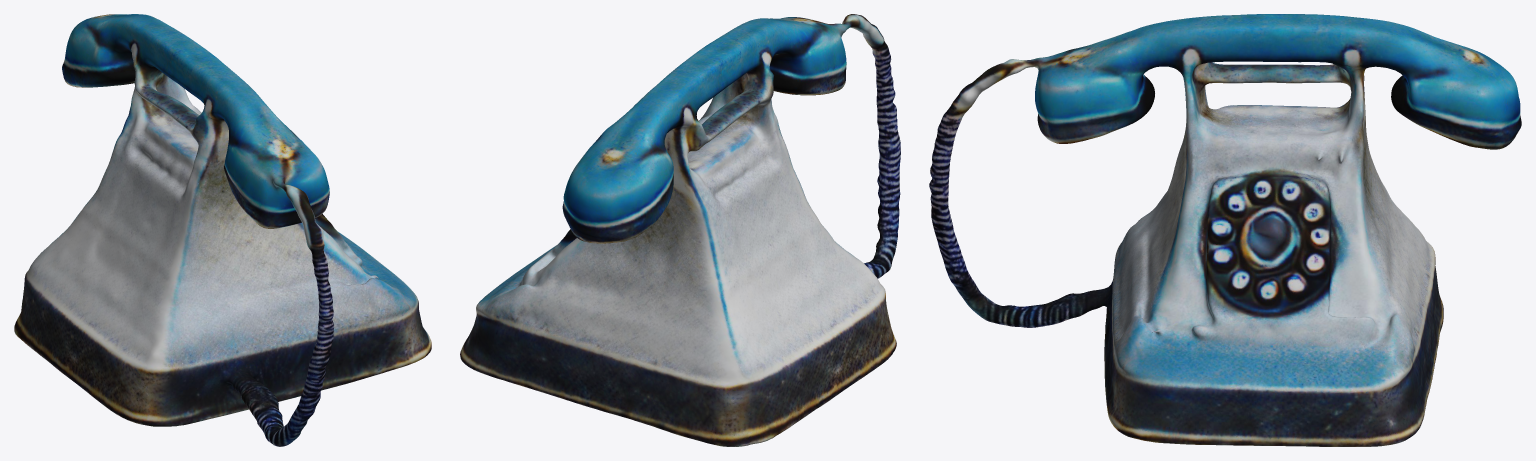
Rendered from 517449e53db9_telephone_pick_up_m.fbx.
3 renders of one model, left to right at view 1: azimuth 30°, elevation 25°; view 2: azimuth 150°, elevation 25°; view 3: azimuth 270°, elevation 25°, orthographic. The views are drawn at different scales.
Parts seen in each view (by area): view 1: high_poly; view 2: high_poly; view 3: high_poly.
Part boxes in pixels (x1,y1,x2,y2): high_poly: (14, 14, 431, 446); high_poly: (460, 14, 900, 446); high_poly: (929, 14, 1521, 446).
Size of the model in its own units: 67.86 by 61.77 by 100.
